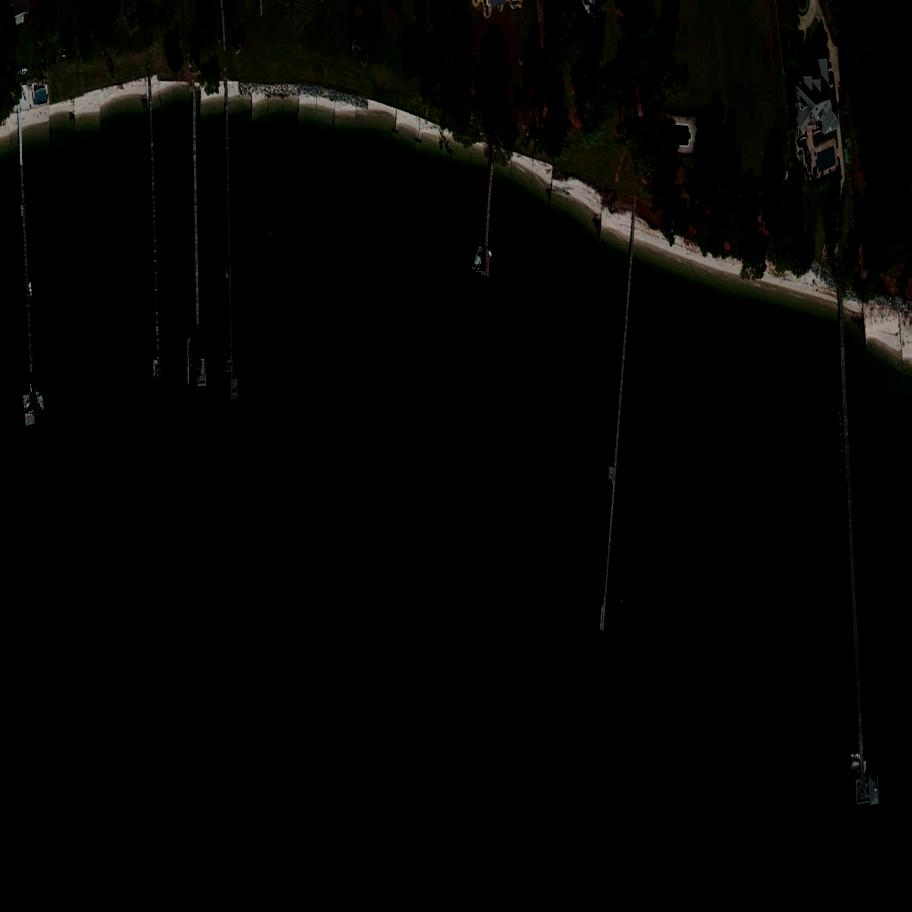ship: (29, 372, 48, 414), (472, 245, 487, 272), (21, 85, 32, 103), (850, 755, 859, 762), (786, 171, 790, 182)
